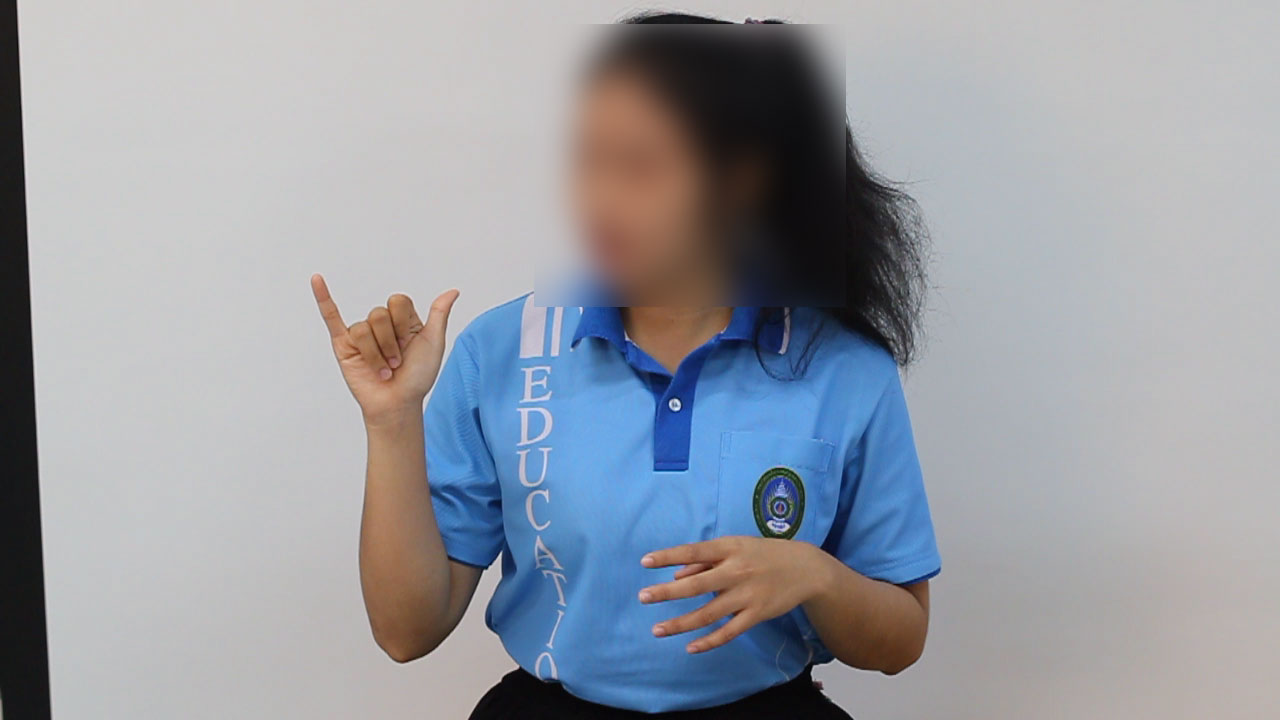yor: (300, 264, 468, 428)
